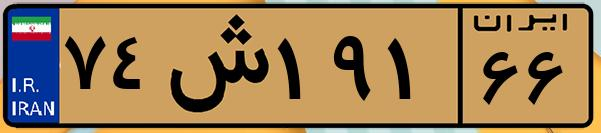1: (270, 28, 330, 110), (385, 28, 445, 110)
4: (110, 28, 158, 98)
6: (475, 38, 525, 113), (525, 38, 570, 115)
7: (57, 26, 110, 100)
9: (330, 28, 385, 110)
ش: (158, 12, 270, 120)
